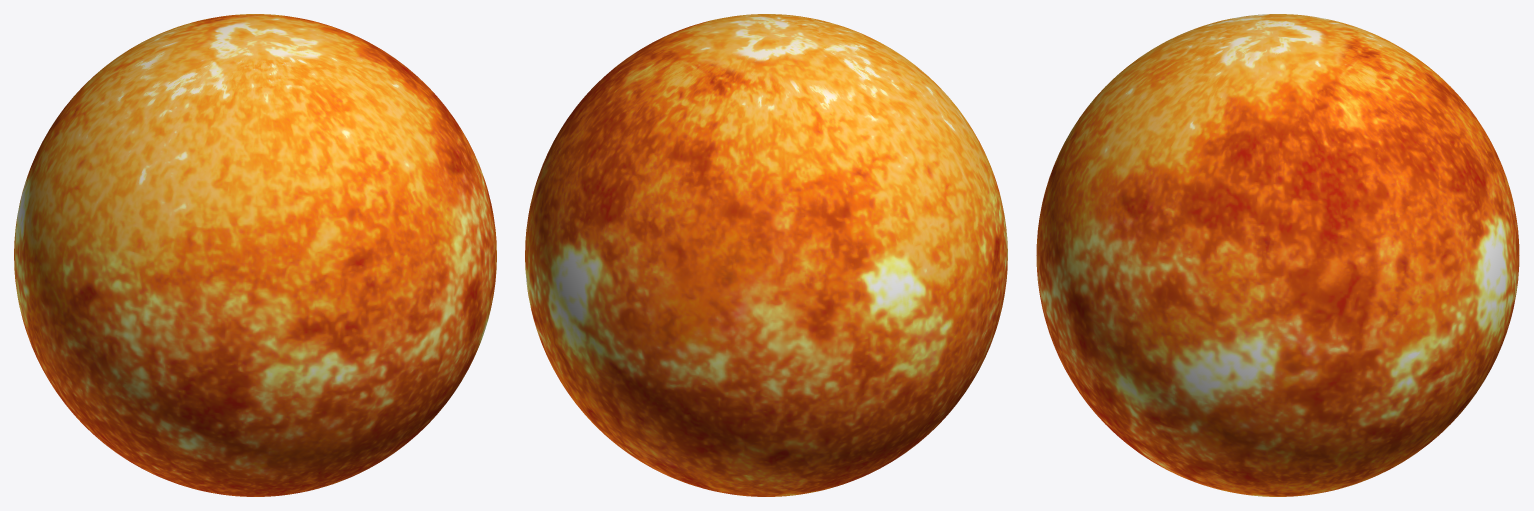
Rendered from sun-real-8k.glb.
3 renders of one model, left to right at view 1: azimuth 30°, elevation 25°; view 2: azimuth 150°, elevation 25°; view 3: azimuth 270°, elevation 25°, orthographic.
Parts seen in each view (by area): view 1: Sphere.001; view 2: Sphere.001; view 3: Sphere.001.
Part boxes in pixels (box(x1,y1,x2,y2)): Sphere.001: box(14, 14, 496, 496); Sphere.001: box(525, 14, 1007, 496); Sphere.001: box(1036, 14, 1519, 496).
Size of the model in its own units: 0.6902 by 0.6902 by 0.6902.
Materials: 1 (1 with a texture image).
